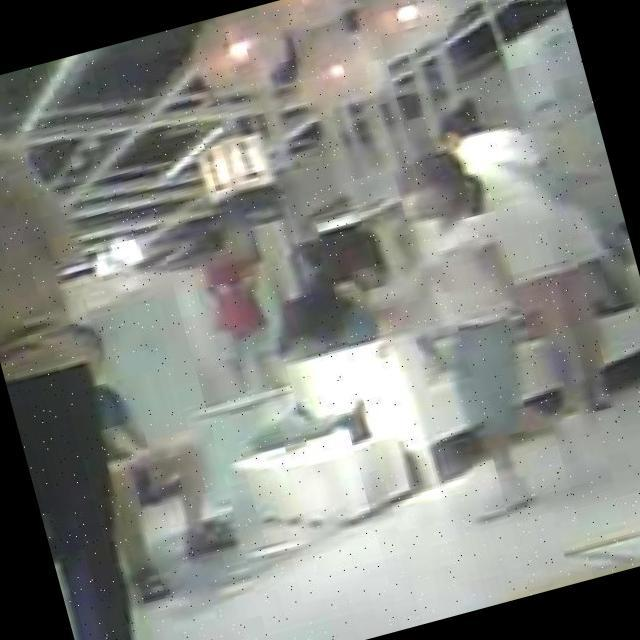person: (0, 63, 210, 640), (310, 139, 598, 541), (427, 74, 640, 430), (61, 291, 249, 603)
